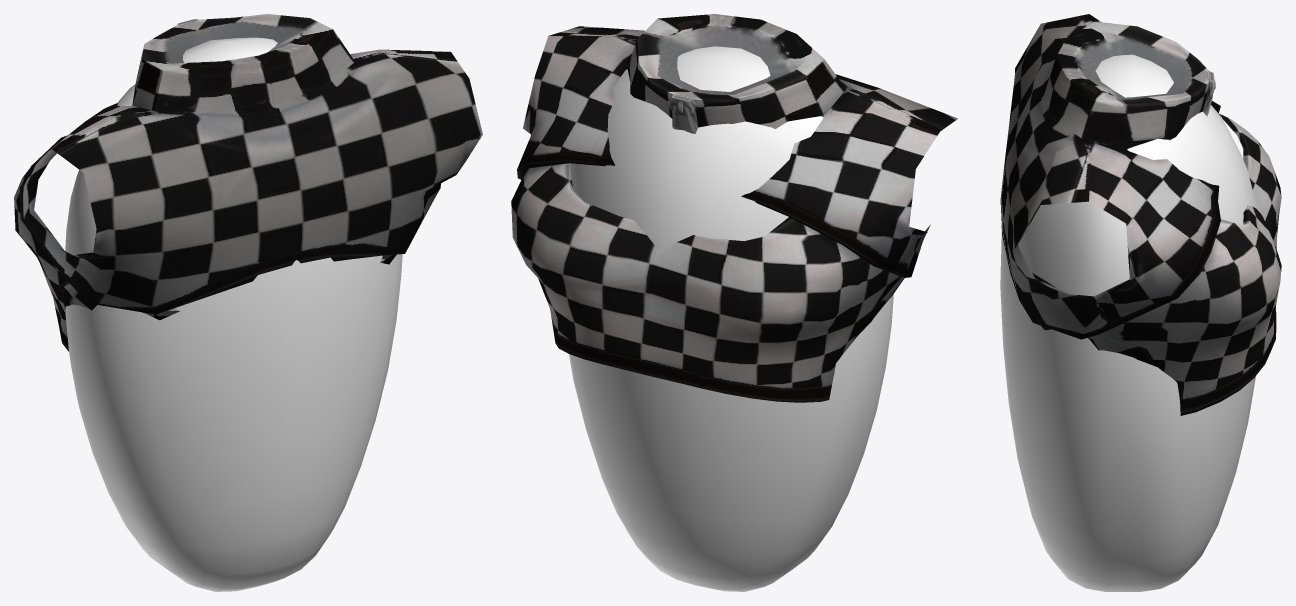
Rendered from curious_girl_body_7.glb.
3 views of the same model, side by side, from view 1: azimuth 30°, elevation 25°; view 2: azimuth 150°, elevation 25°; view 3: azimuth 270°, elevation 25° (orthographic). The views are drawn at different scales.
Parts seen in each view (by area): view 1: Wolf3D_Outfit_Top.001, body; view 2: Wolf3D_Outfit_Top.001, body; view 3: Wolf3D_Outfit_Top.001, body.
Part boxes in pixels (x1=…): Wolf3D_Outfit_Top.001: x1=14, y1=14, x2=482, y2=351; body: x1=65, y1=37, x2=402, y2=591; Wolf3D_Outfit_Top.001: x1=511, y1=14, x2=957, y2=402; body: x1=569, y1=46, x2=893, y2=591; Wolf3D_Outfit_Top.001: x1=1000, y1=14, x2=1281, y2=415; body: x1=1000, y1=54, x2=1257, y2=591.
Size of the model in its own units: 0.6439 by 0.822 by 0.4031.
Materials: 2 (1 with a texture image).
